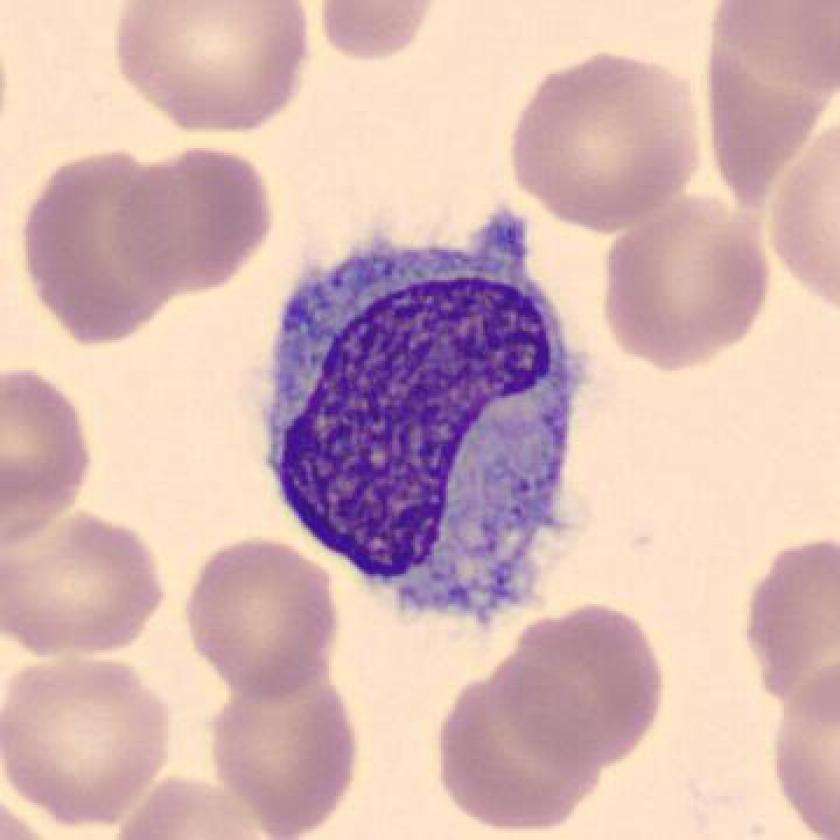monocyte: (249, 195, 599, 663)
